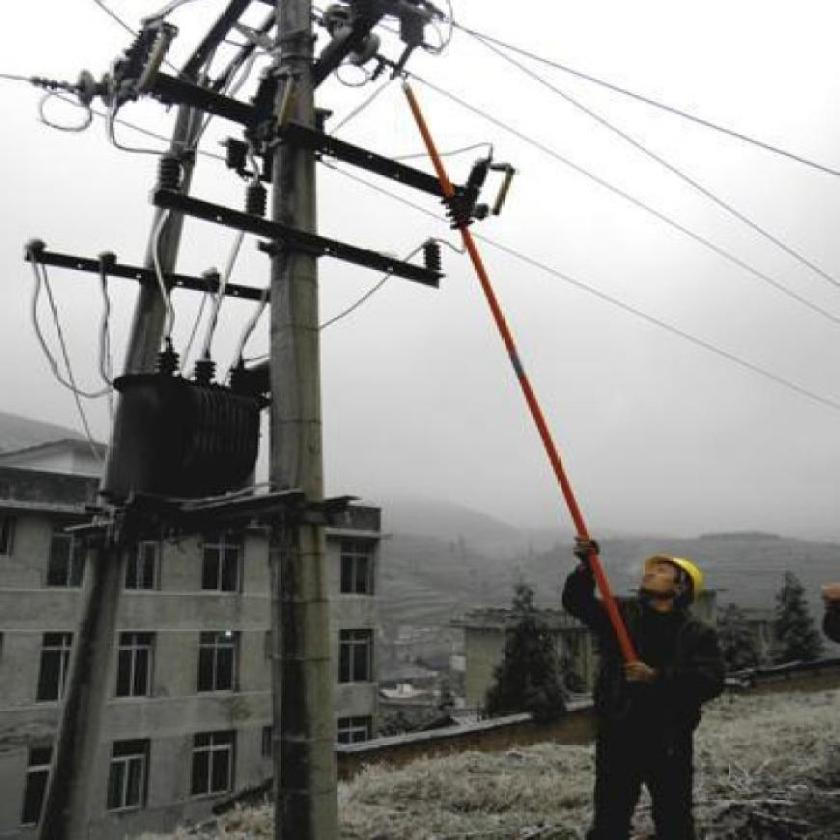Con_casco: (638, 549, 705, 626)
